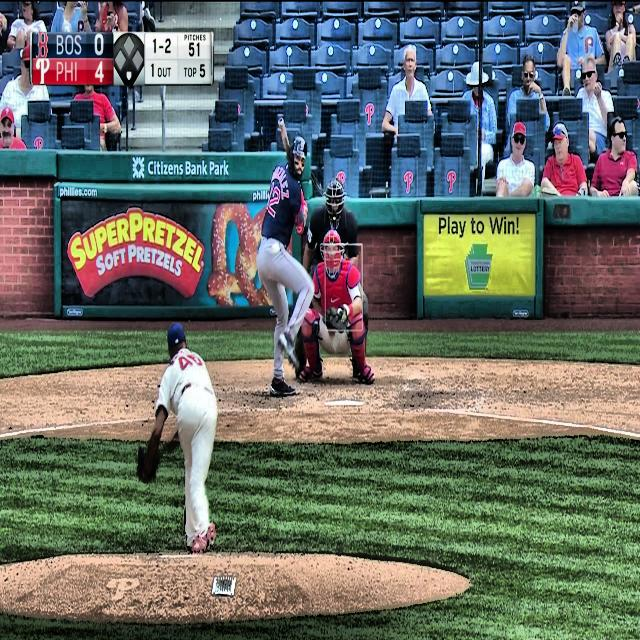baseball: (270, 242, 280, 256)
